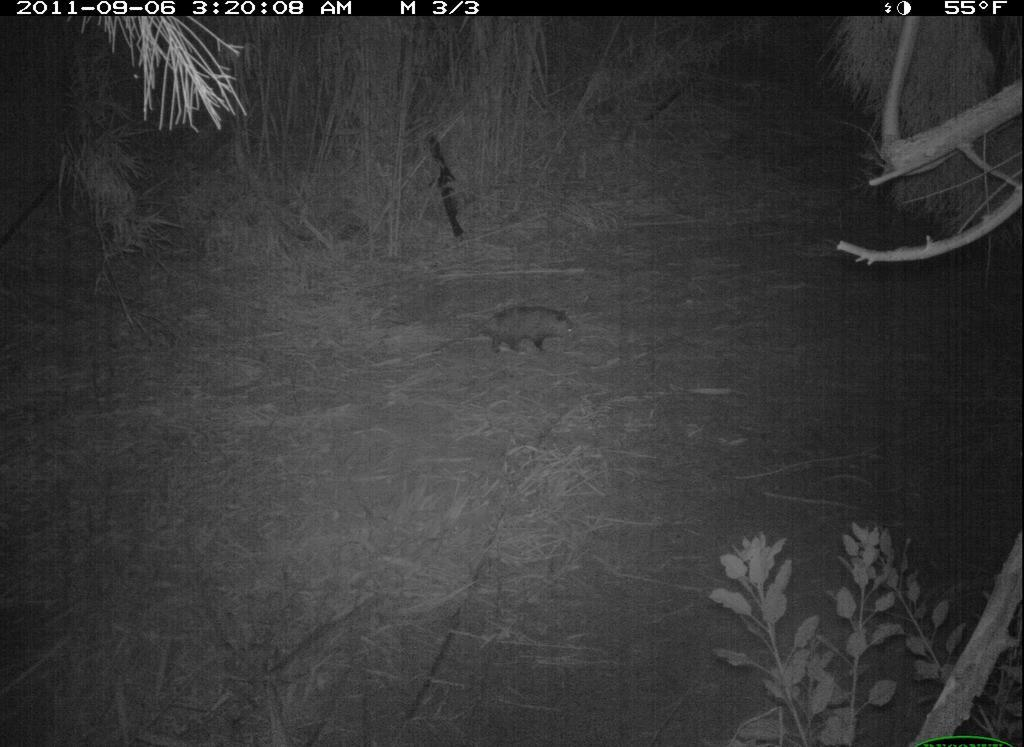opossum: (463, 301, 580, 356)
